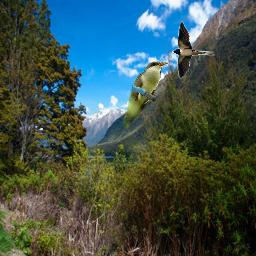Cuckoo: (122, 61, 168, 128)
Swallow: (172, 21, 215, 79)
